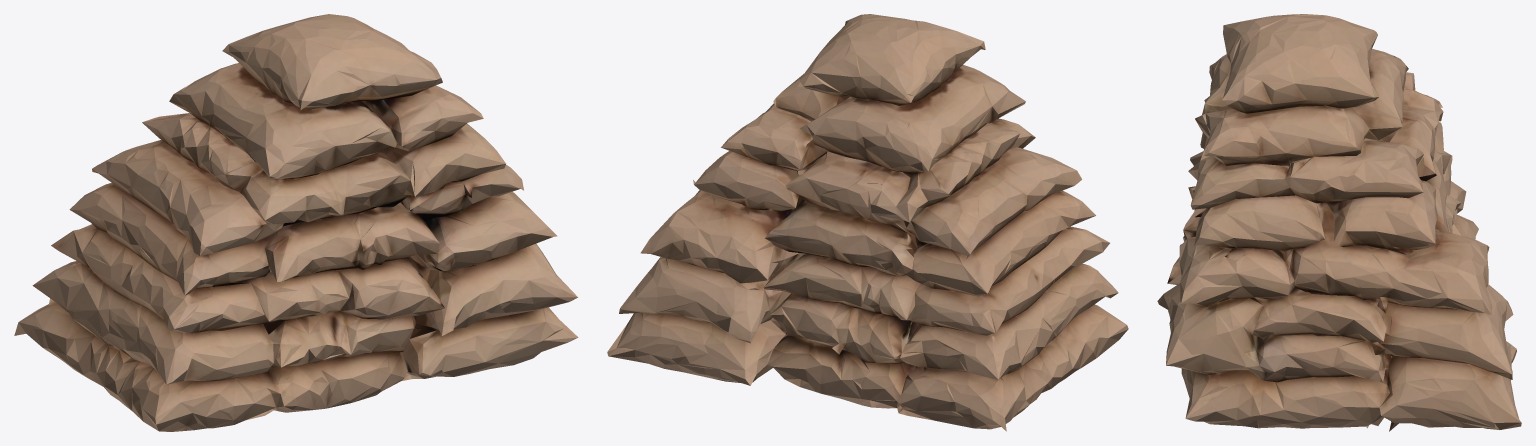
File: bar_sandbag.glb
3 renders of one model, left to right at view 1: azimuth 30°, elevation 25°; view 2: azimuth 150°, elevation 25°; view 3: azimuth 270°, elevation 25°, orthographic. The views are drawn at different scales.
Visible parts, largest first — view 1: bar_sandbag_tex; view 2: bar_sandbag_tex; view 3: bar_sandbag_tex.
Part boxes in pixels (<box>): bar_sandbag_tex: <box>14,14,578,431</box>; bar_sandbag_tex: <box>607,14,1128,431</box>; bar_sandbag_tex: <box>1157,14,1521,431</box>.
Bounding box in the file's own units: 1.6 × 1.23 × 1.27.
1 material, 1 textured.
